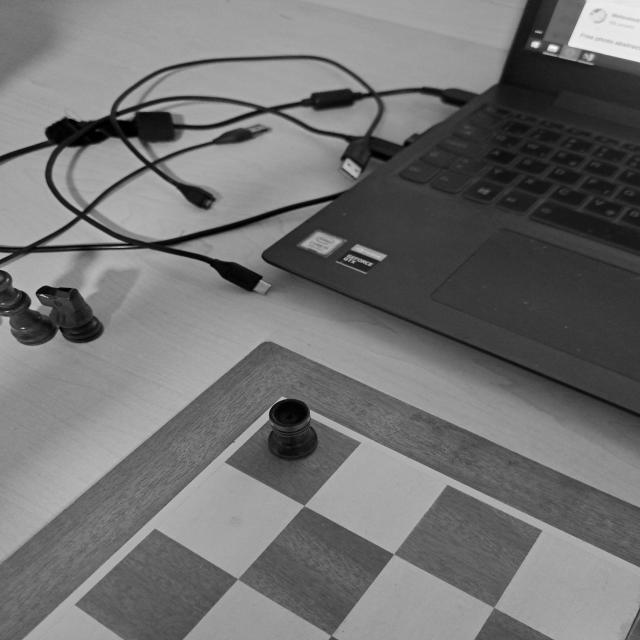chess-table-corners: (236, 388, 335, 436)
